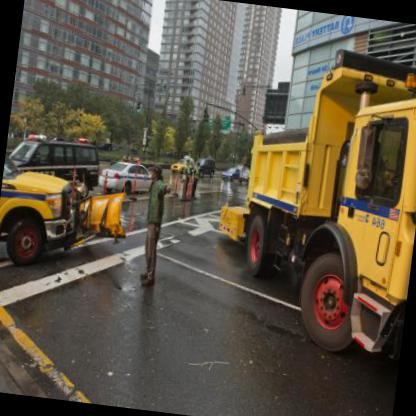truck: (202, 33, 415, 365), (0, 144, 137, 285)
